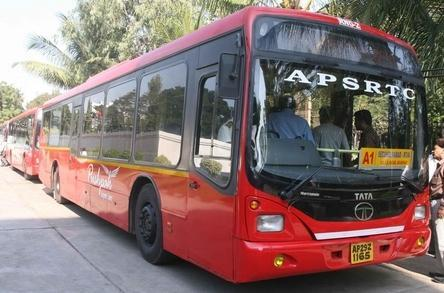Bus: (37, 7, 435, 285)
